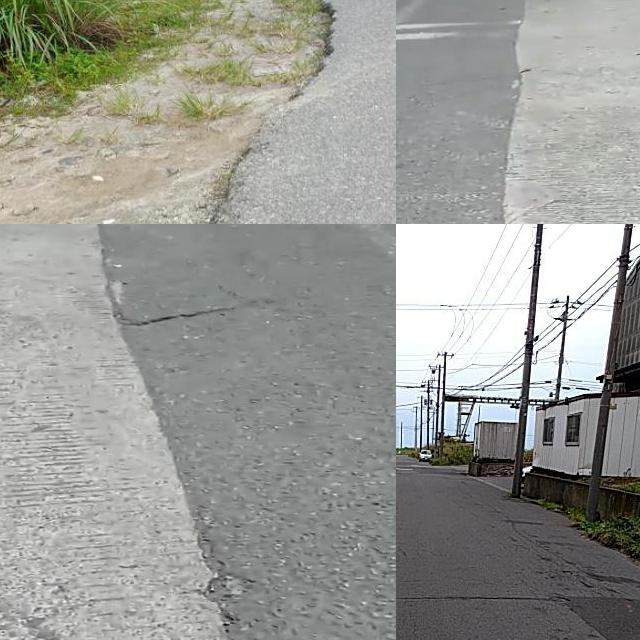Pinggir: (161, 0, 364, 224)
Sambungan: (0, 224, 232, 640), (509, 0, 640, 224), (563, 594, 640, 640)
